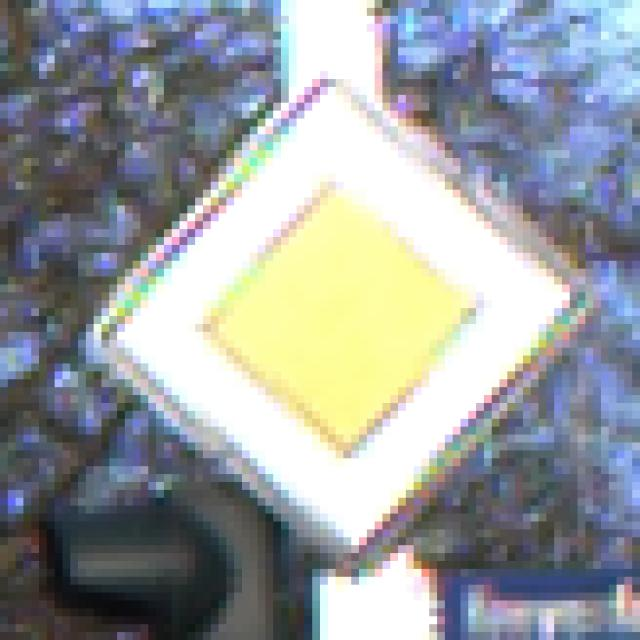Main Road: (64, 56, 587, 586)
